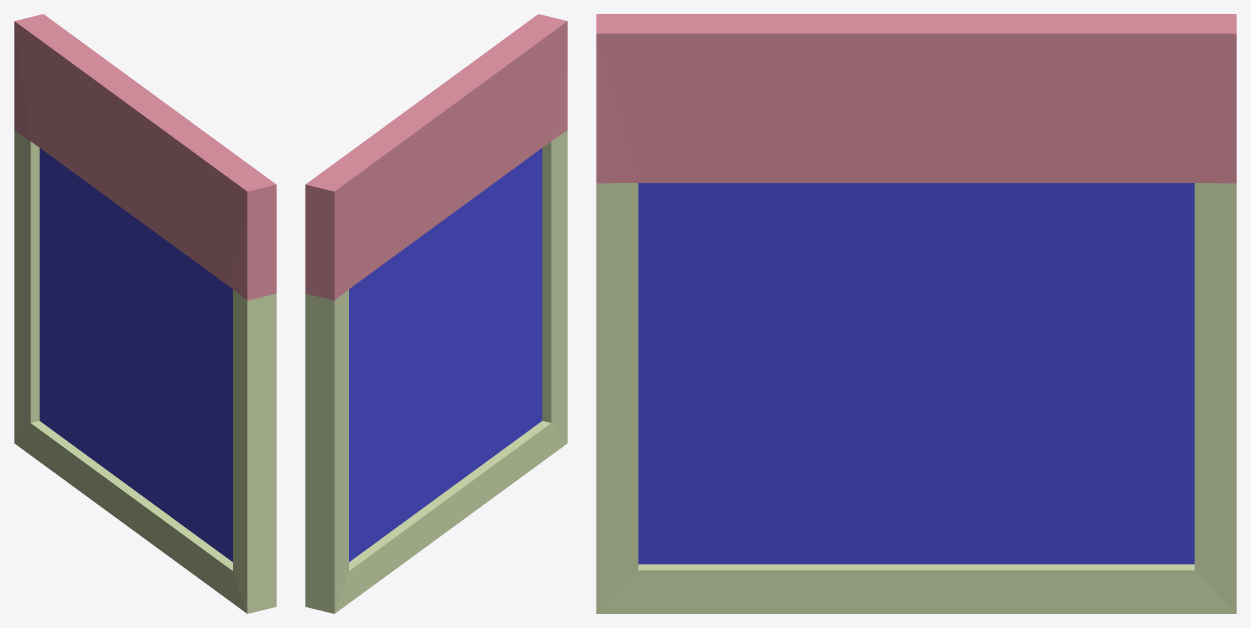
The model's file is zidd staklo.fbx.
The picture shows the model from 3 angles, left to right: view 1: azimuth 30°, elevation 25°; view 2: azimuth 150°, elevation 25°; view 3: azimuth 270°, elevation 25°; orthographic projection. The views are drawn at different scales.
Parts seen in each view (by area): view 1: Cube.005; view 2: Cube.005; view 3: Cube.005.
Boxes of the visible parts, x1,y1,x2,y2 form: Cube.005: (14, 14, 276, 613); Cube.005: (305, 14, 567, 613); Cube.005: (596, 14, 1236, 613).
Size of the model in its own units: 56.07 by 777 by 777.
